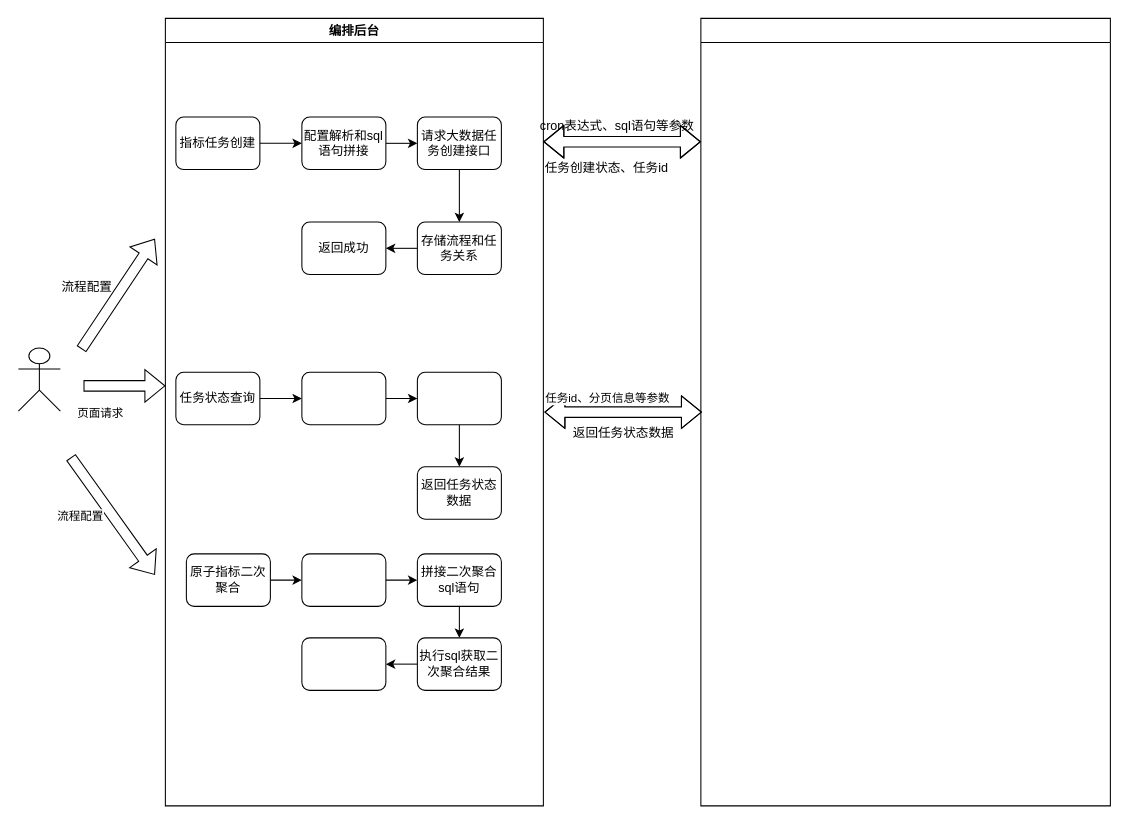
The diagram is 1129 pixels wide and 824 high, and some of its shapes have lost their labels. Here are the shapes that lost their labels. From the top down, the centre of each, then its label:
the point at 38,379: Actor
the point at 343,398: 获取流程和任务关系
the point at 458,398: 请求大数据任务查询接口
the point at 905,411: 离线大数据平台
the point at 343,579: 获取原子指标结果表信息
the point at 343,663: 执行后续流程节点
